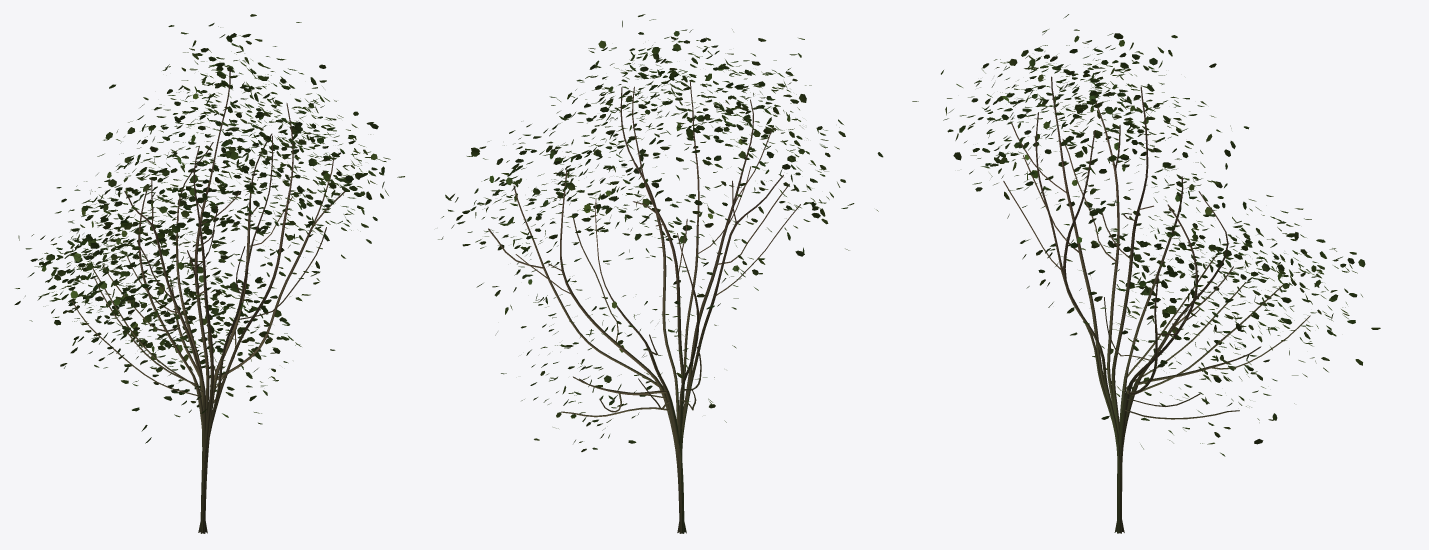
File: SM_Tree_hazel_0.glb
3 views of the same model, side by side, from view 1: azimuth 30°, elevation 25°; view 2: azimuth 150°, elevation 25°; view 3: azimuth 270°, elevation 25° (orthographic). The views are drawn at different scales.
Visible parts, largest first — view 1: SM_Tree_hazel_0; view 2: SM_Tree_hazel_0; view 3: SM_Tree_hazel_0.
Boxes of the visible parts, x1,y1,x2,y2 form: SM_Tree_hazel_0: (14,14,404,533); SM_Tree_hazel_0: (438,14,883,533); SM_Tree_hazel_0: (912,14,1380,533).
Size of the model in its own units: 4.94 by 6.53 by 5.68.
